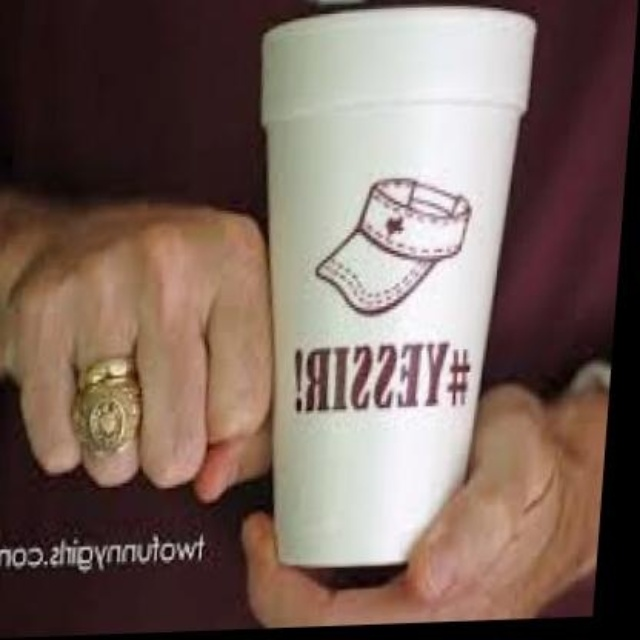trash: (262, 6, 534, 566)
